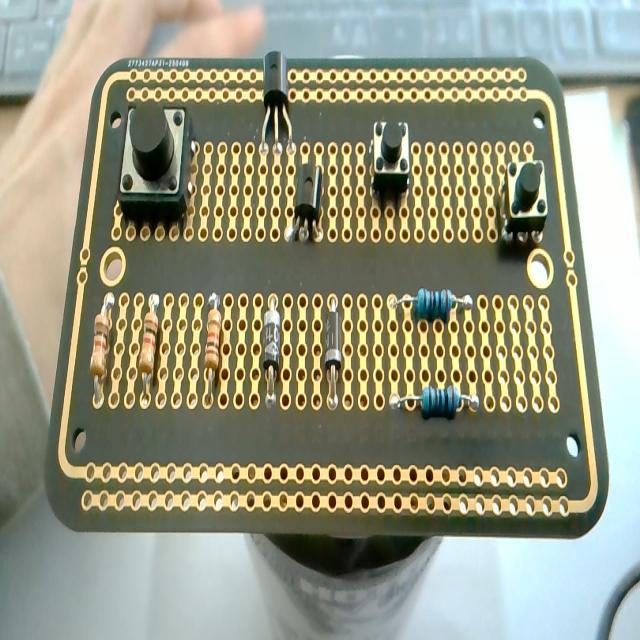diode: (323, 296, 343, 415), (262, 298, 280, 408)
resistor: (390, 286, 474, 322), (391, 384, 478, 418), (90, 291, 114, 406), (139, 292, 161, 404), (203, 293, 223, 407)
switch: (117, 101, 194, 223), (502, 158, 549, 242), (371, 118, 412, 204)
transistor: (261, 50, 293, 159), (286, 160, 324, 243)
